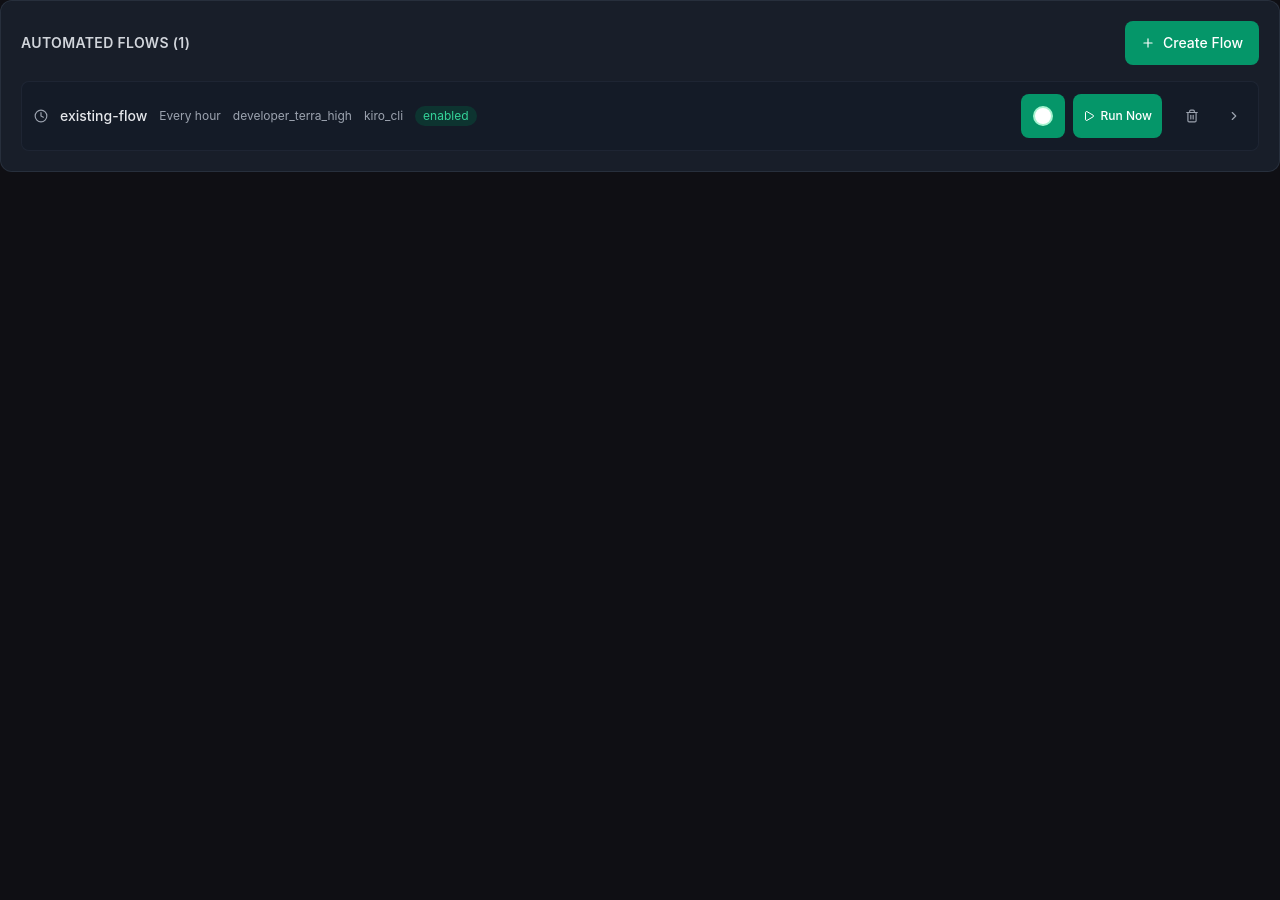
it: Create Flow canonical defaults and profile selection › defaults each new flow to codex without changing an existing flow provider
Expected: the text "existing-flow" is shown, left=60, top=106, right=147, bottom=126
Expected: the text "kiro_cli" is shown, left=364, top=108, right=403, bottom=124
Click the button "Create Flow".
click(1192, 43)  # box left=1125, top=21, right=1259, bottom=65
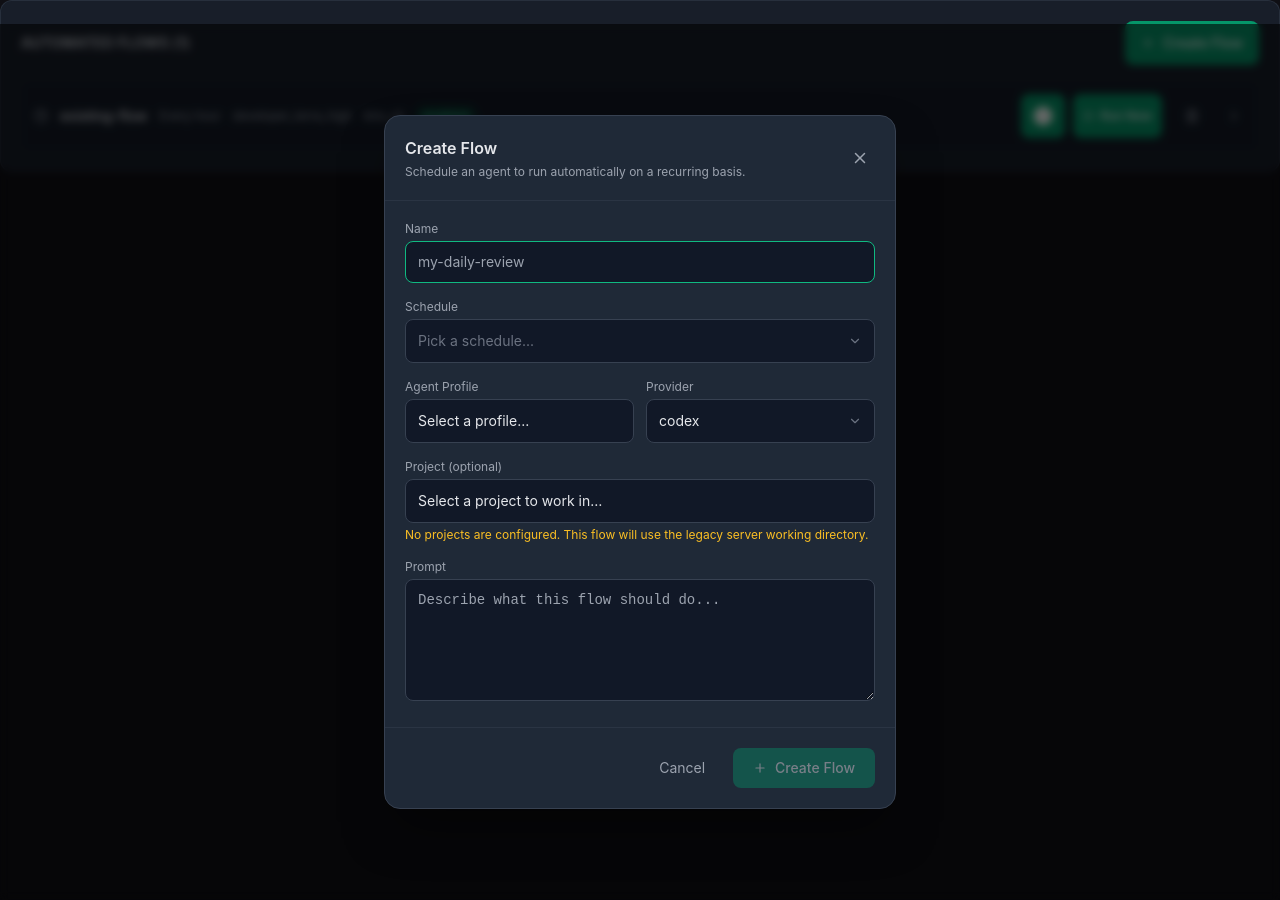
Result: the button "codex" is shown at left=646, top=399, right=875, bottom=443
Click the button "Cancel".
click(682, 768)  # box left=643, top=750, right=721, bottom=786
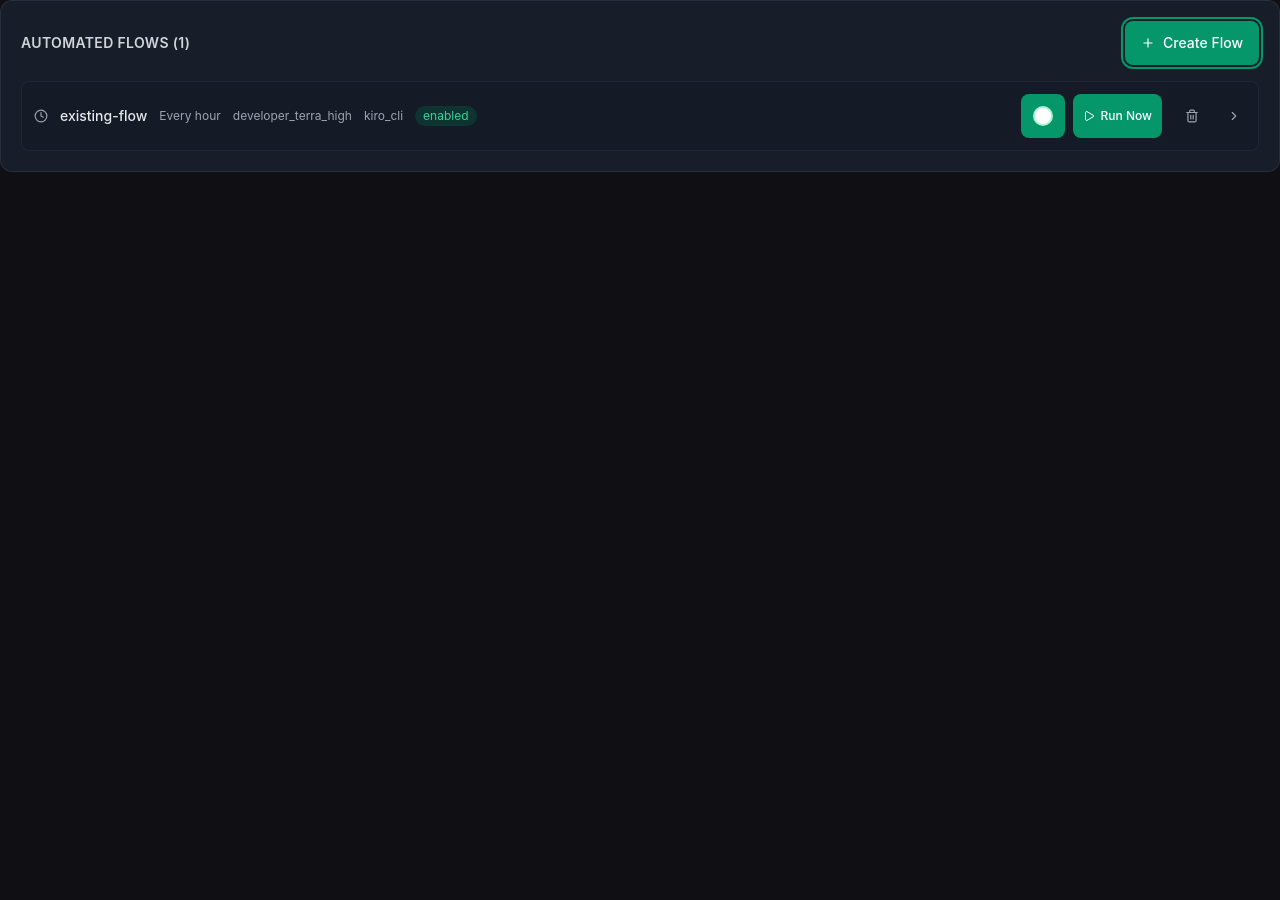
Click the button "Create Flow".
click(1192, 43)  # box left=1125, top=21, right=1259, bottom=65
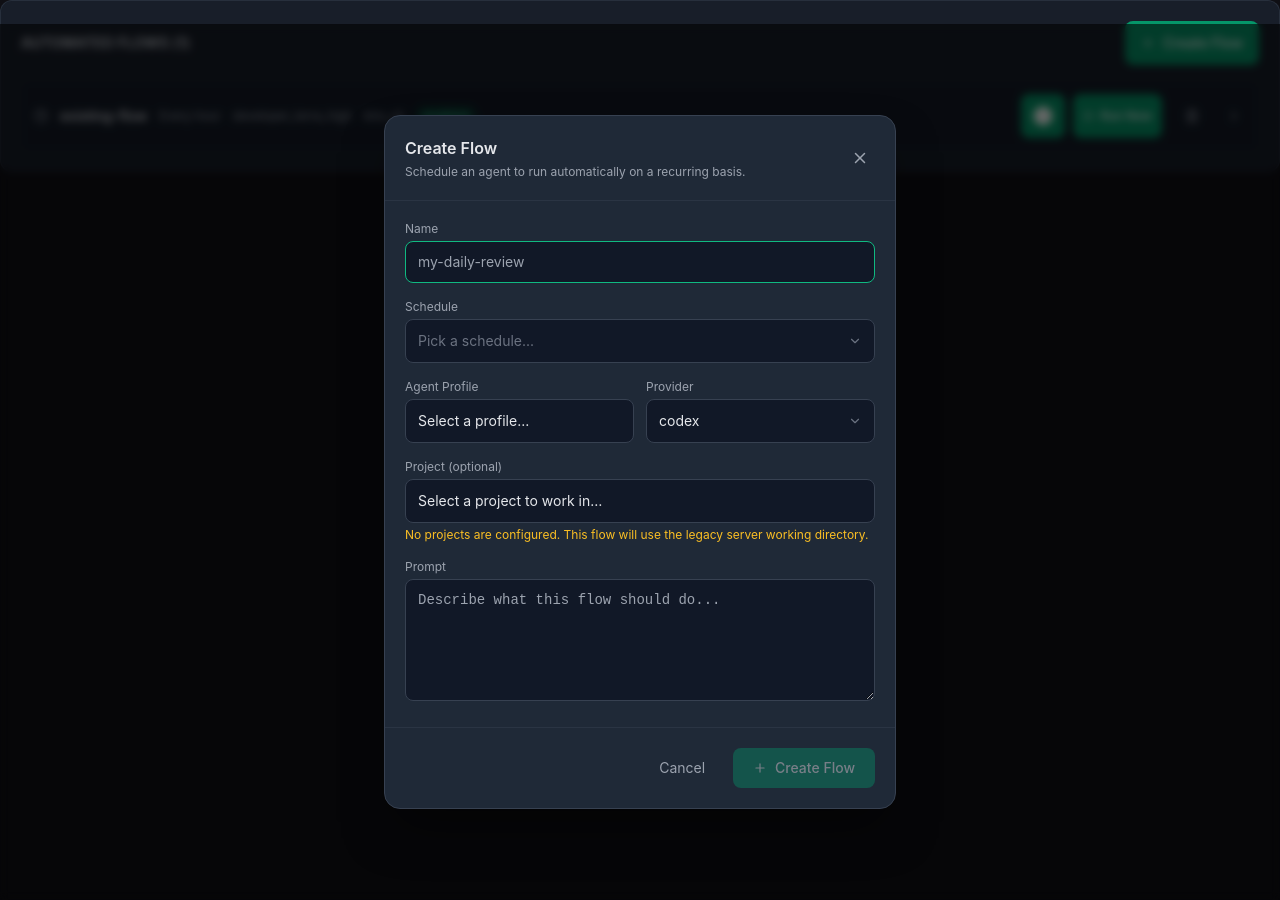
Result: the button "codex" is shown at left=646, top=399, right=875, bottom=443
